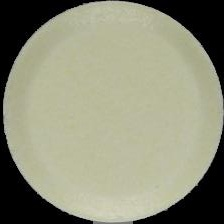54868-5295: (0, 0, 224, 224)
